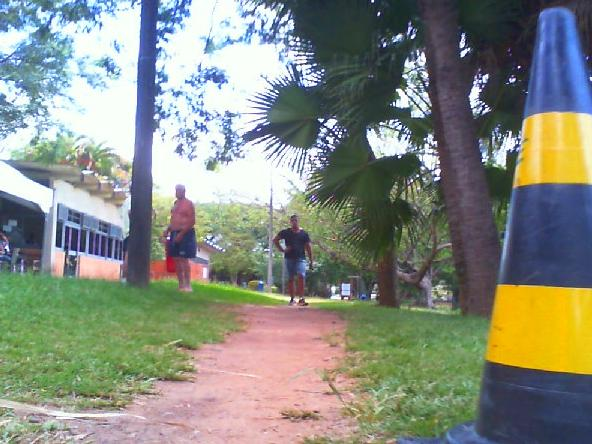0 cone: (396, 8, 592, 444)
